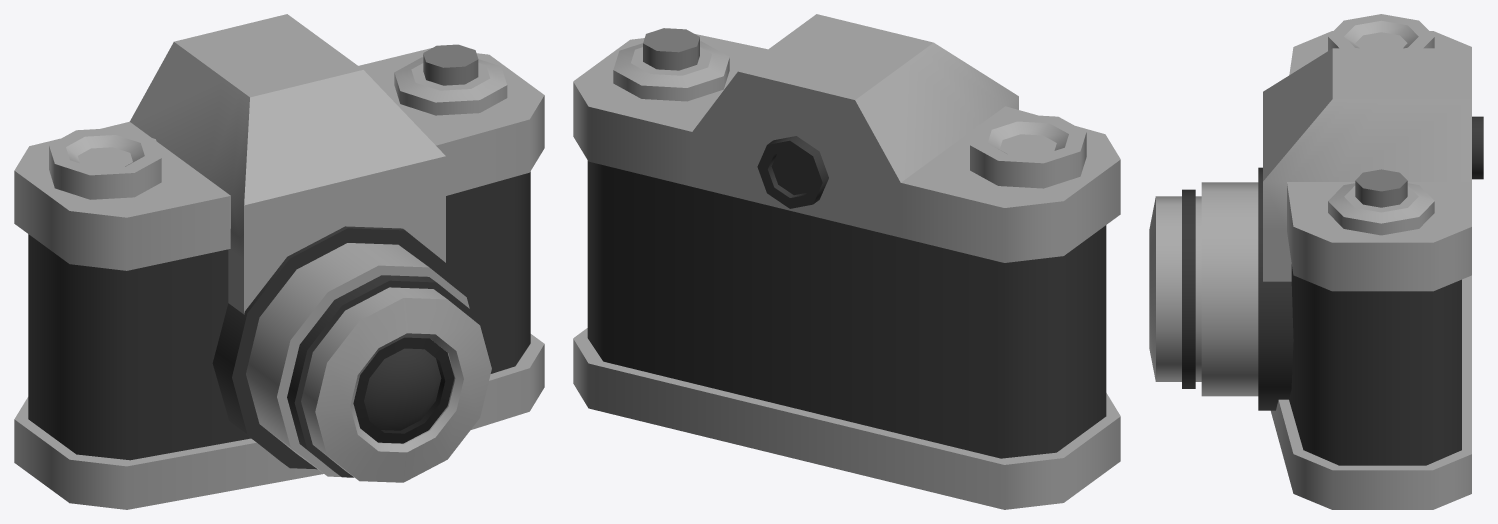
File: Camera_01.fbx
The picture shows the model from 3 angles, left to right: view 1: azimuth 30°, elevation 25°; view 2: azimuth 150°, elevation 25°; view 3: azimuth 270°, elevation 25°; orthographic projection. The views are drawn at different scales.
Visible parts, largest first — view 1: Camera_01; view 2: Camera_01; view 3: Camera_01.
Part boxes in pixels (left/top/right/bottom): Camera_01: left=14, top=14, right=544, bottom=509; Camera_01: left=573, top=14, right=1120, bottom=509; Camera_01: left=1149, top=14, right=1483, bottom=509.
Size of the model in its own units: 0.2209 by 0.1606 by 0.1472.
